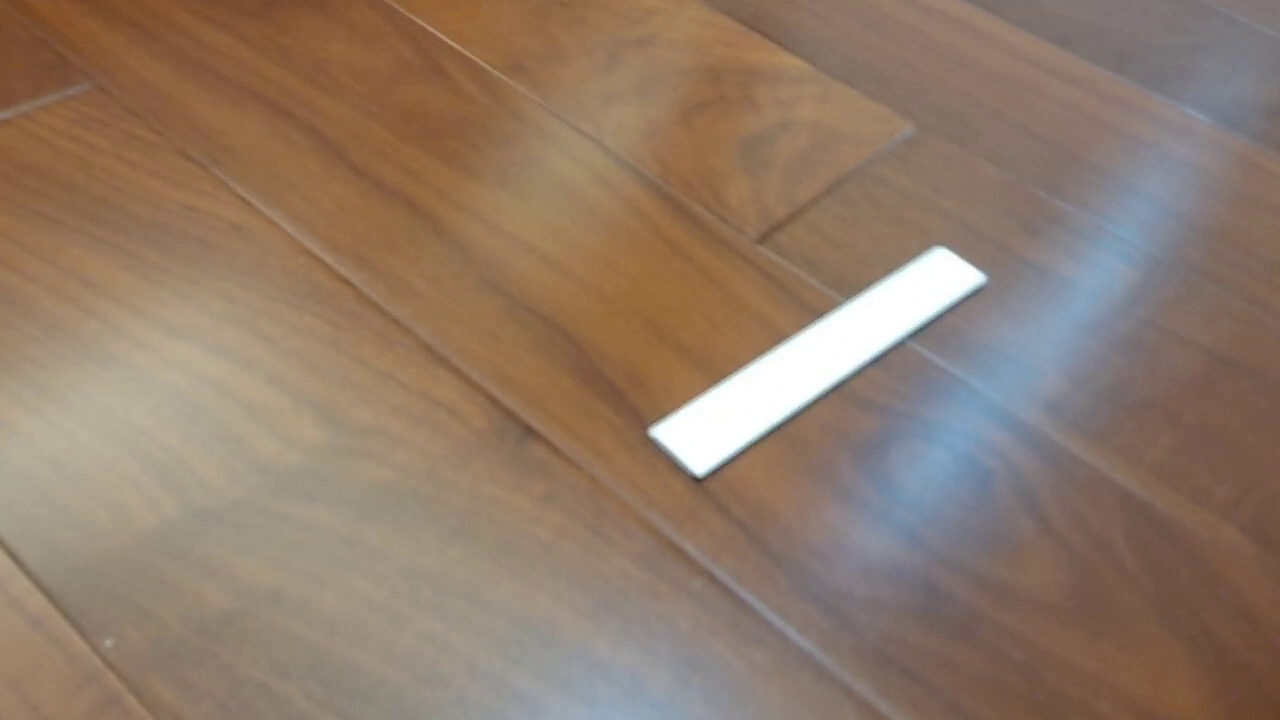ruler: (645, 243, 990, 482)
